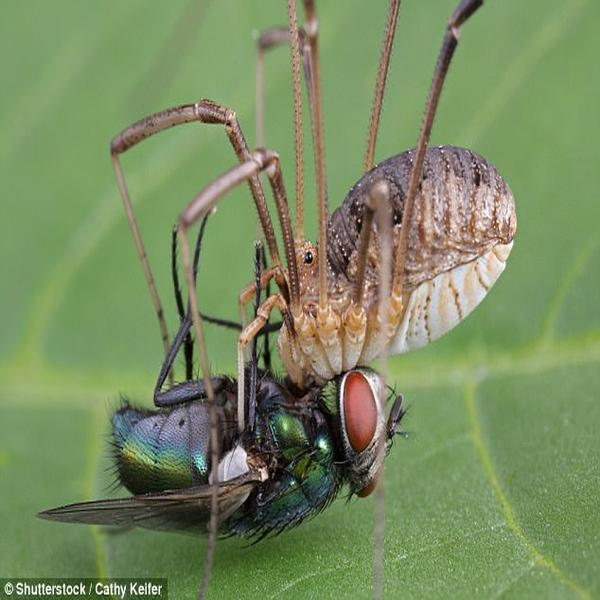Daddy Long Legs Spider: (110, 7, 541, 404)
